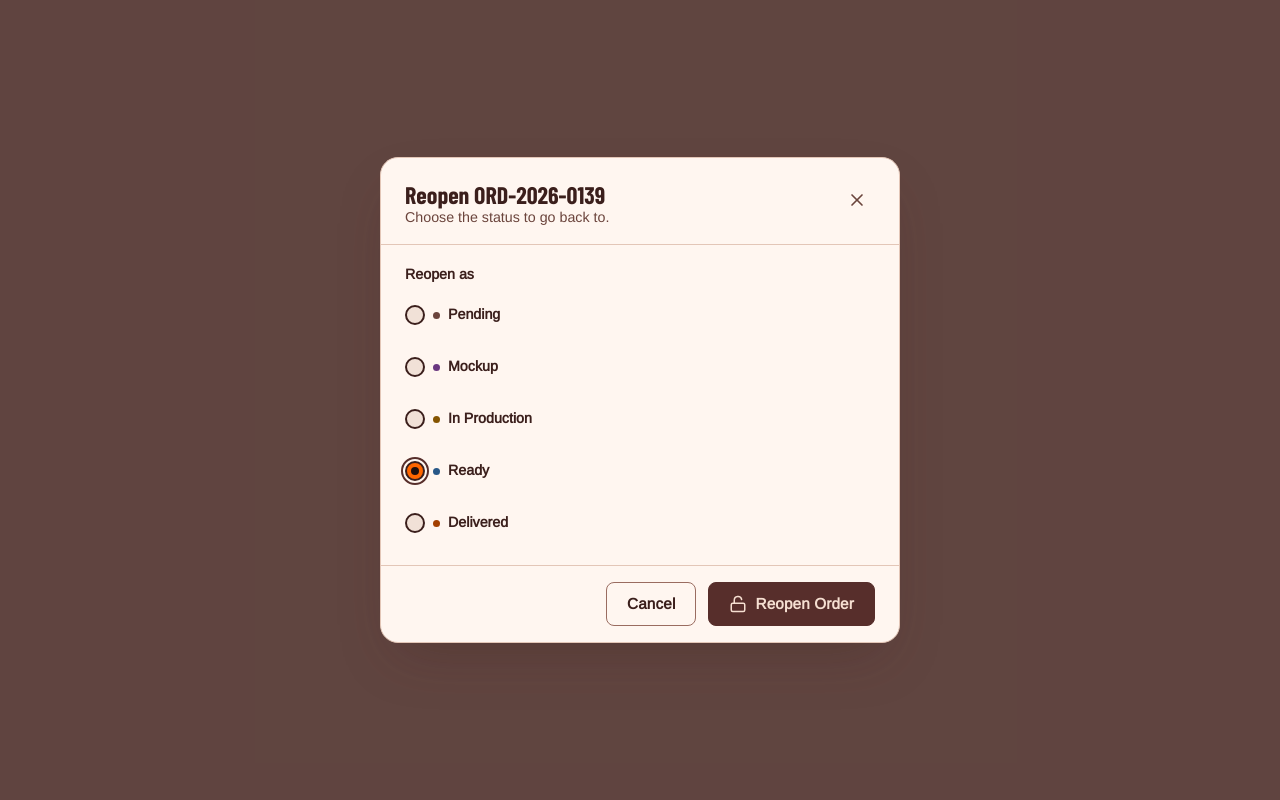
Test: reopening (D-16, 05 D-21) › shows the server text in the window when the server refuses, and stays open
This screenshot has width=1280, height=800.
Step 1. Click the button "Reopen Order" → [792, 604], box [708,582,875,626]
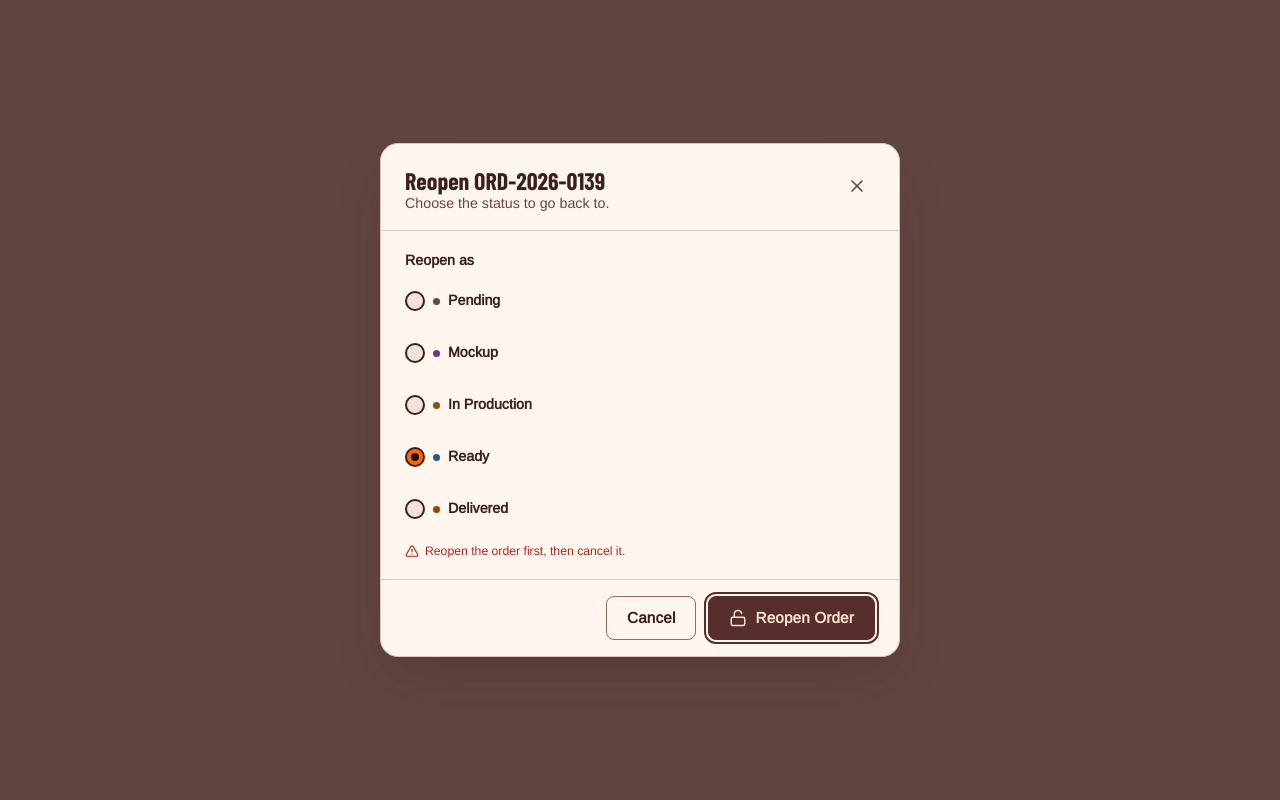
Check: the text "Reopen the order first, then cancel it." is shown, box [405,544,625,558]
